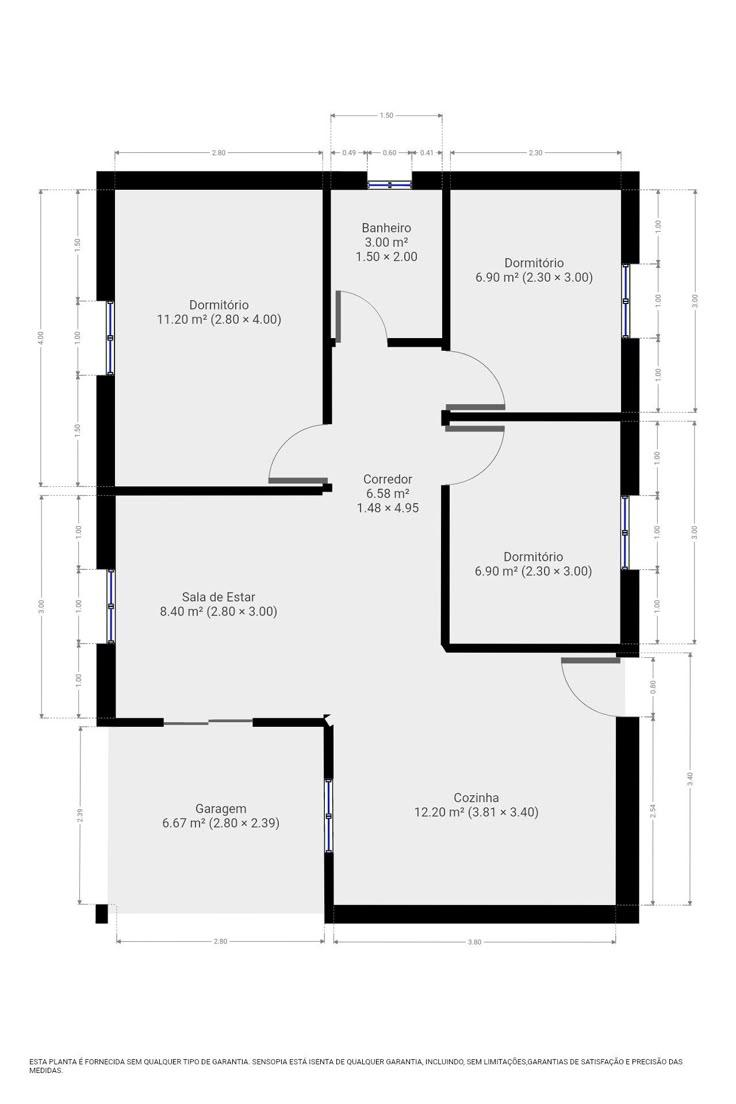wall: (621, 171, 638, 921), (98, 170, 639, 191), (97, 170, 115, 728), (322, 904, 641, 923), (442, 172, 450, 654), (97, 715, 335, 729), (322, 168, 331, 497), (321, 714, 334, 924), (442, 642, 640, 654), (97, 486, 331, 496), (441, 413, 639, 422), (324, 338, 451, 347)
